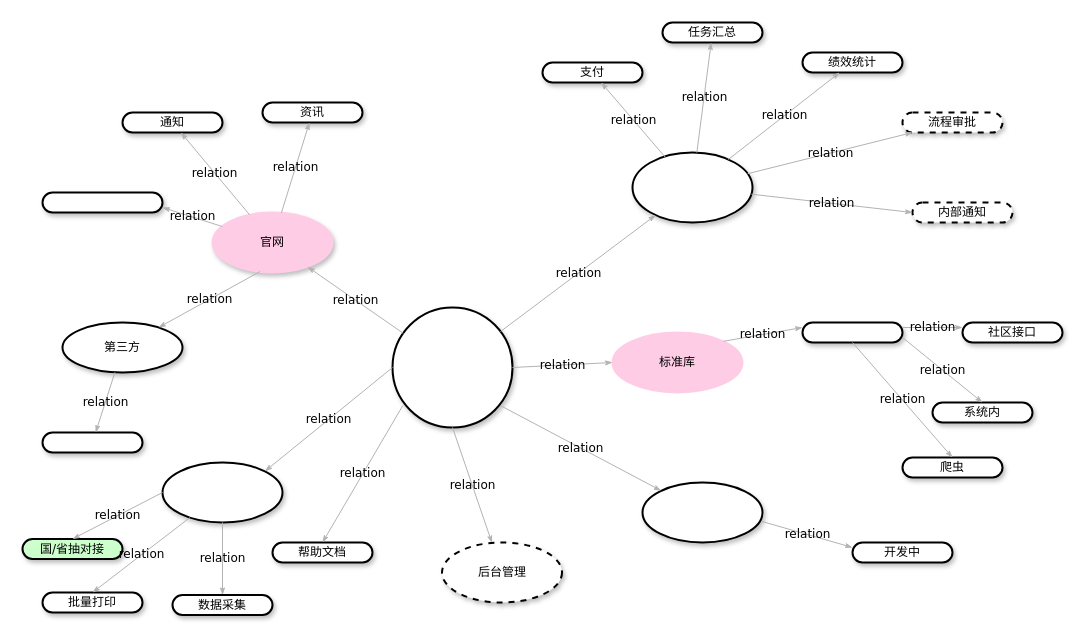
This 1086x640 diagram has some shape labels left out. The centre of each missing label's shape, as x and y in pixels:
LIMSChain: pixel 453 368
好老板: pixel 693 188
投放广告: pixel 93 443
智能助手: pixel 223 493
标准查新: pixel 853 333
活动（如培训等）: pixel 103 203
采样管理: pixel 703 513
